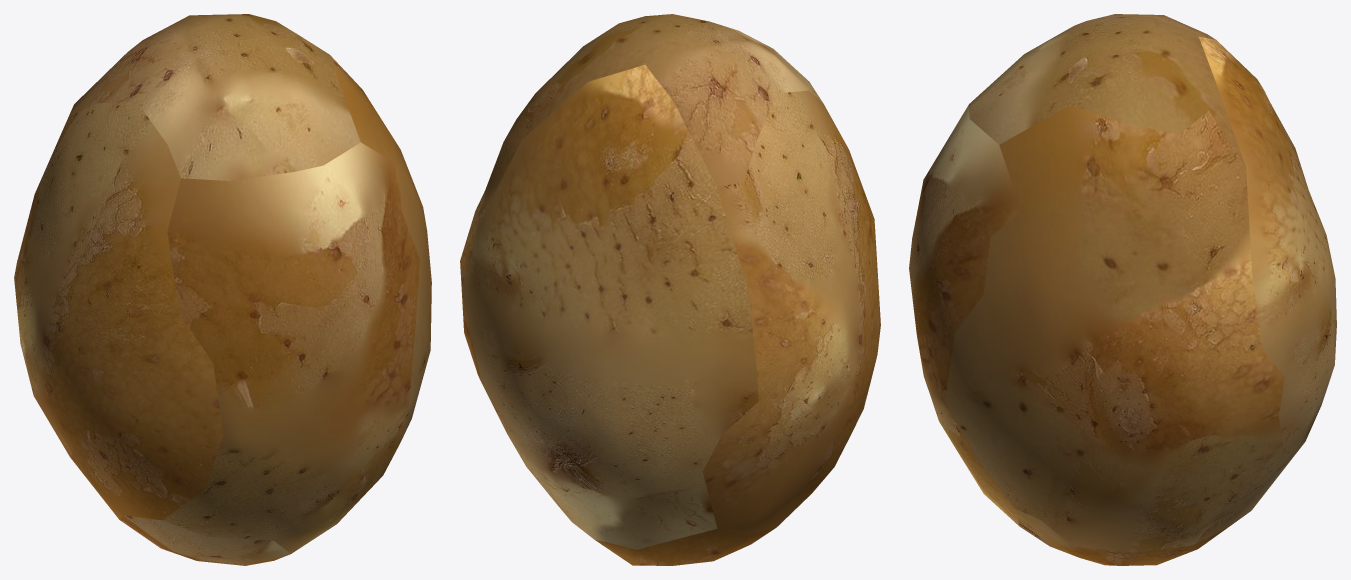
3 views of the same model, side by side, from view 1: azimuth 30°, elevation 25°; view 2: azimuth 150°, elevation 25°; view 3: azimuth 270°, elevation 25° (orthographic).
Size of the model in its own units: 0.7389 by 1 by 0.7366.
